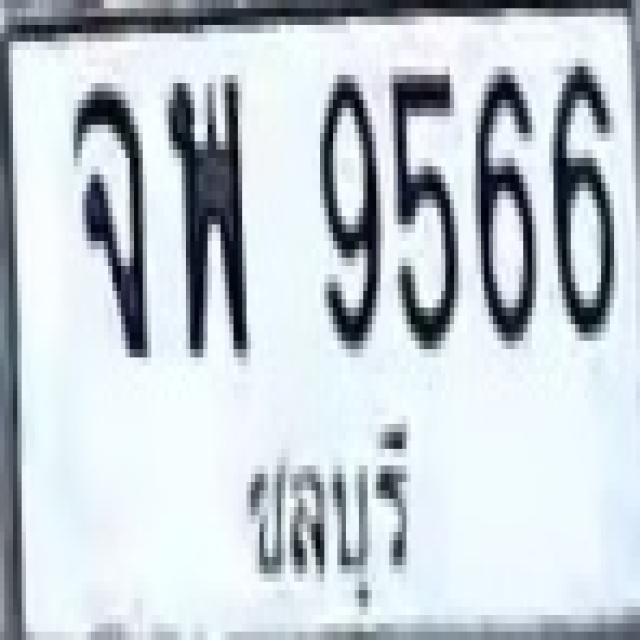5: (389, 66, 454, 341)
6: (549, 58, 614, 333), (472, 66, 536, 341)
9: (316, 66, 376, 341)
A08: (69, 79, 147, 353)
A30: (165, 71, 246, 353)
CBI: (239, 416, 430, 633)
